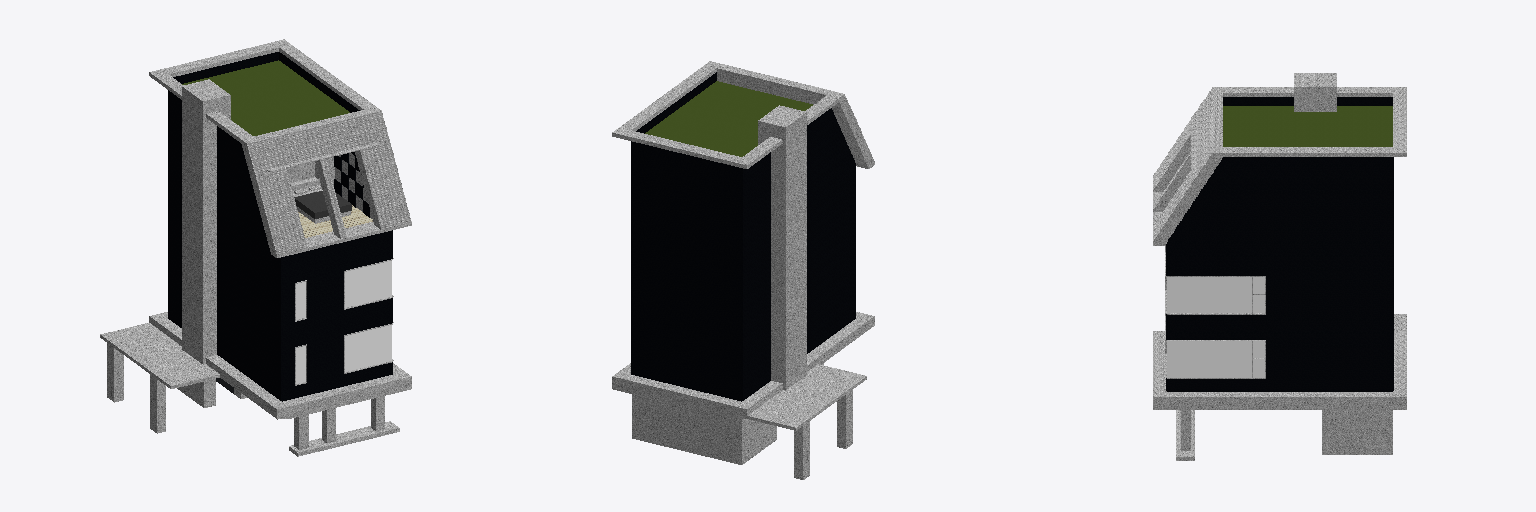
The picture shows the model from 3 angles: view 1: azimuth 30°, elevation 25°; view 2: azimuth 150°, elevation 25°; view 3: azimuth 270°, elevation 25°; orthographic projection.
Parts seen in each view (by area): view 1: minecraft_concrete_white_-1, minecraft_concrete_black_-1, minecraft_concrete_green_-1, minecraft_glass_black_-1, minecraft_hardened_clay_stained_gray_-1, minecraft_planks_birch_-1; view 2: minecraft_concrete_black_-1, minecraft_concrete_white_-1, minecraft_concrete_green_-1; view 3: minecraft_concrete_black_-1, minecraft_concrete_white_-1, minecraft_glass_black_-1, minecraft_concrete_green_-1.
Boxes of the visible parts, x1=… form: minecraft_concrete_white_-1: x1=100, y1=39, x2=411, y2=456; minecraft_concrete_black_-1: x1=168, y1=52, x2=392, y2=401; minecraft_concrete_green_-1: x1=182, y1=60, x2=349, y2=135; minecraft_glass_black_-1: x1=296, y1=261, x2=391, y2=383; minecraft_hardened_clay_stained_gray_-1: x1=294, y1=191, x2=351, y2=218; minecraft_planks_birch_-1: x1=298, y1=205, x2=372, y2=237; minecraft_concrete_black_-1: x1=631, y1=72, x2=855, y2=401; minecraft_concrete_white_-1: x1=612, y1=61, x2=874, y2=479; minecraft_concrete_green_-1: x1=645, y1=81, x2=812, y2=156; minecraft_concrete_black_-1: x1=1166, y1=97, x2=1393, y2=391; minecraft_concrete_white_-1: x1=1153, y1=73, x2=1406, y2=460; minecraft_glass_black_-1: x1=1167, y1=277, x2=1264, y2=377; minecraft_concrete_green_-1: x1=1223, y1=106, x2=1392, y2=146.
Size of the model in its own units: 15 by 25 by 18.
9 materials, 7 textured.